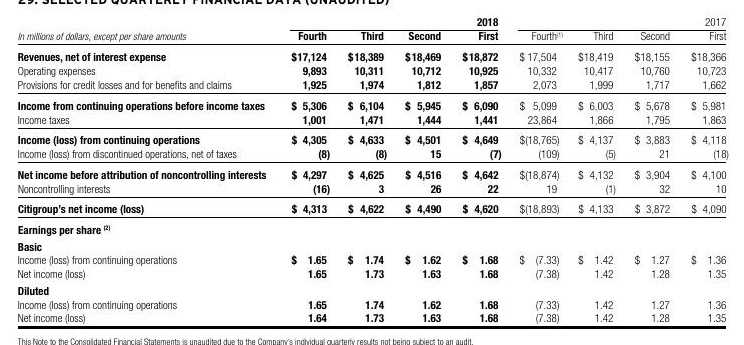table: (0, 0, 744, 345)
